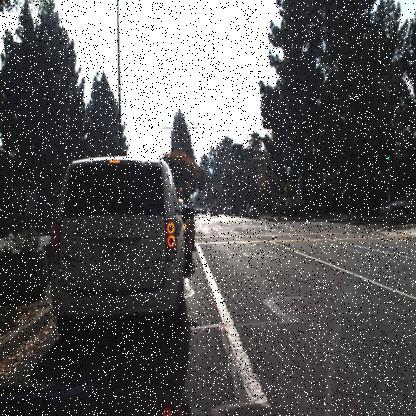car: (50, 154, 185, 350), (181, 201, 198, 269), (388, 182, 416, 220), (208, 201, 222, 222), (248, 206, 258, 221)
trafficLight-Green: (235, 142, 244, 164), (386, 146, 392, 168), (386, 142, 392, 162), (237, 144, 242, 166), (275, 180, 280, 196), (276, 175, 281, 191)
trafficLight-Red: (178, 186, 184, 200)
